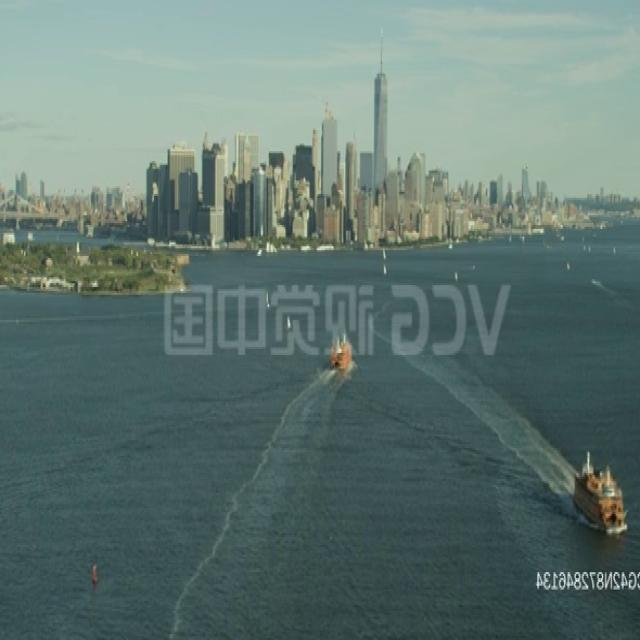passenger ship: (572, 448, 630, 533), (329, 334, 354, 368)
